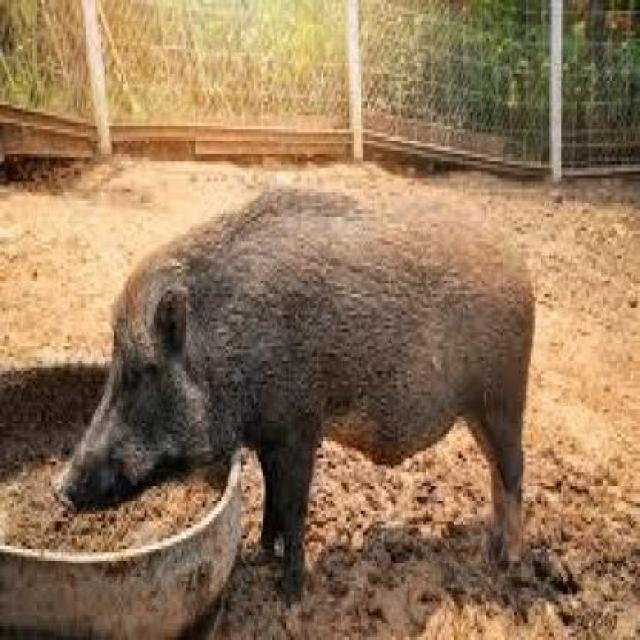wildboar: (45, 172, 547, 625)
